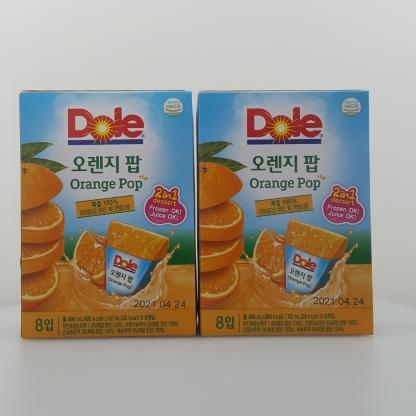--------496ML: (19, 90, 197, 339), (195, 90, 374, 336)
